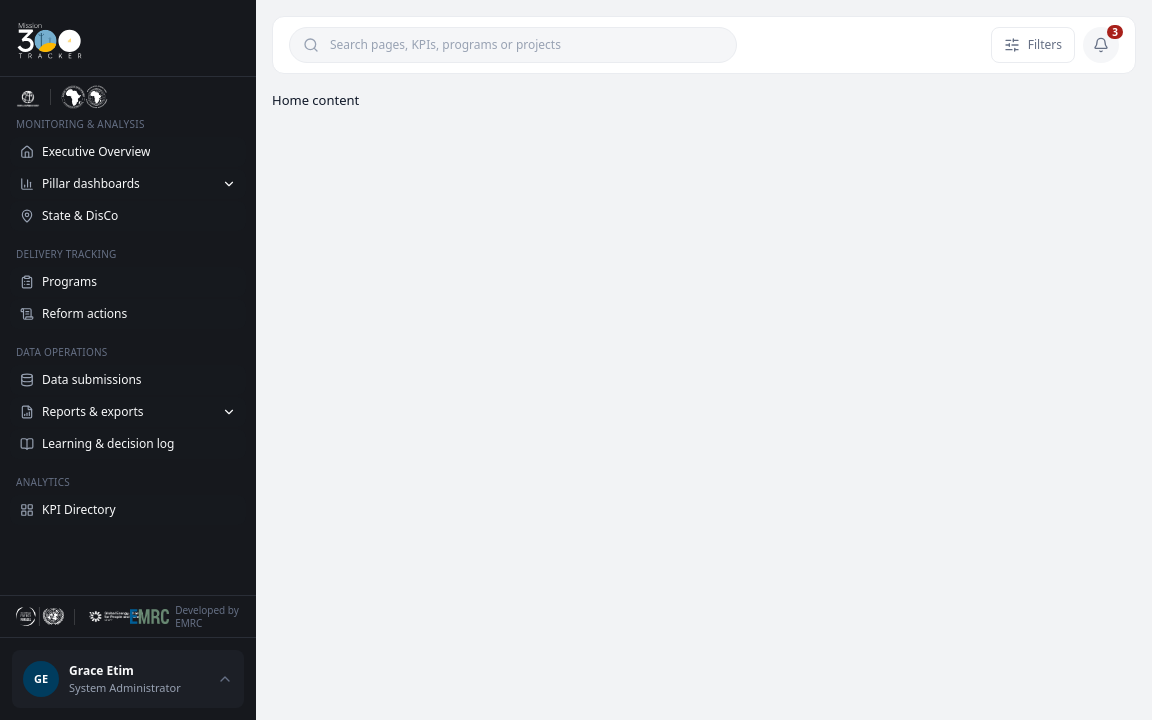
Scenario: AppShell › opens and closes the global filter bar from the sticky header
expect the element "Dashboard filters" is not shown: met
Click the button with aria-label "Open filters" at (1033, 45), box top-left (991, 27), bottom-right (1075, 63)
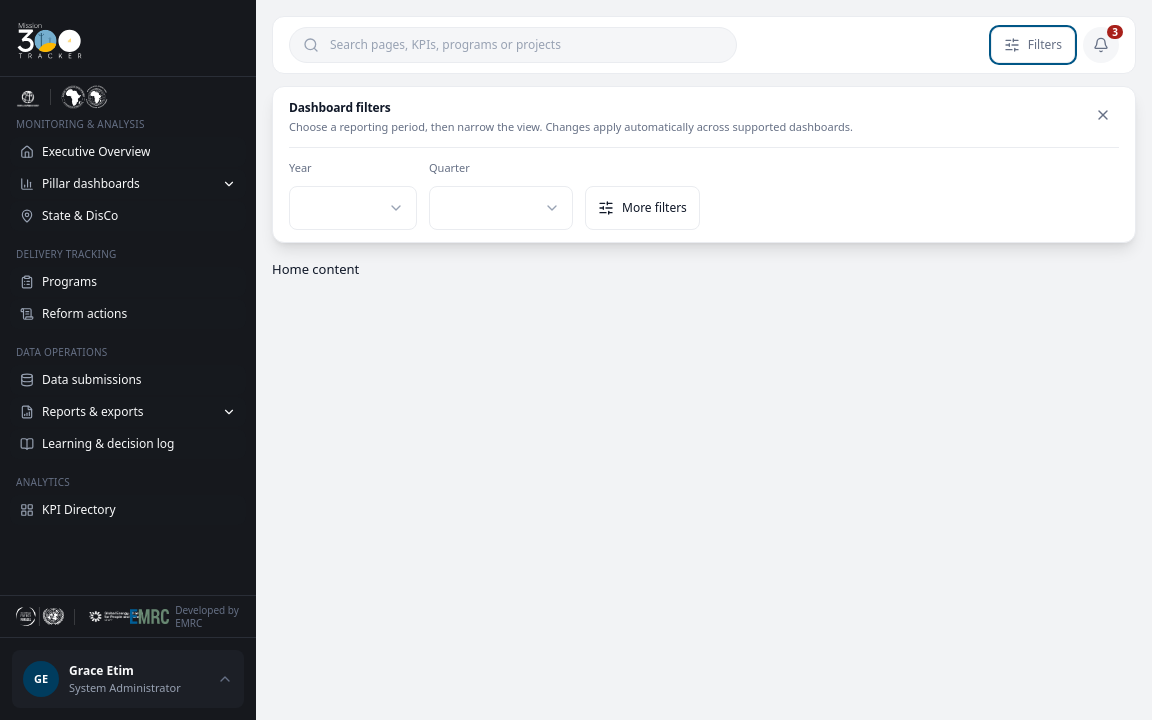
expect the element "Dashboard filters" is shown: met, box top-left (272, 86), bottom-right (1136, 243)
Click the button named "Close filter panel" at (1103, 115), box top-left (1087, 99), bottom-right (1119, 131)
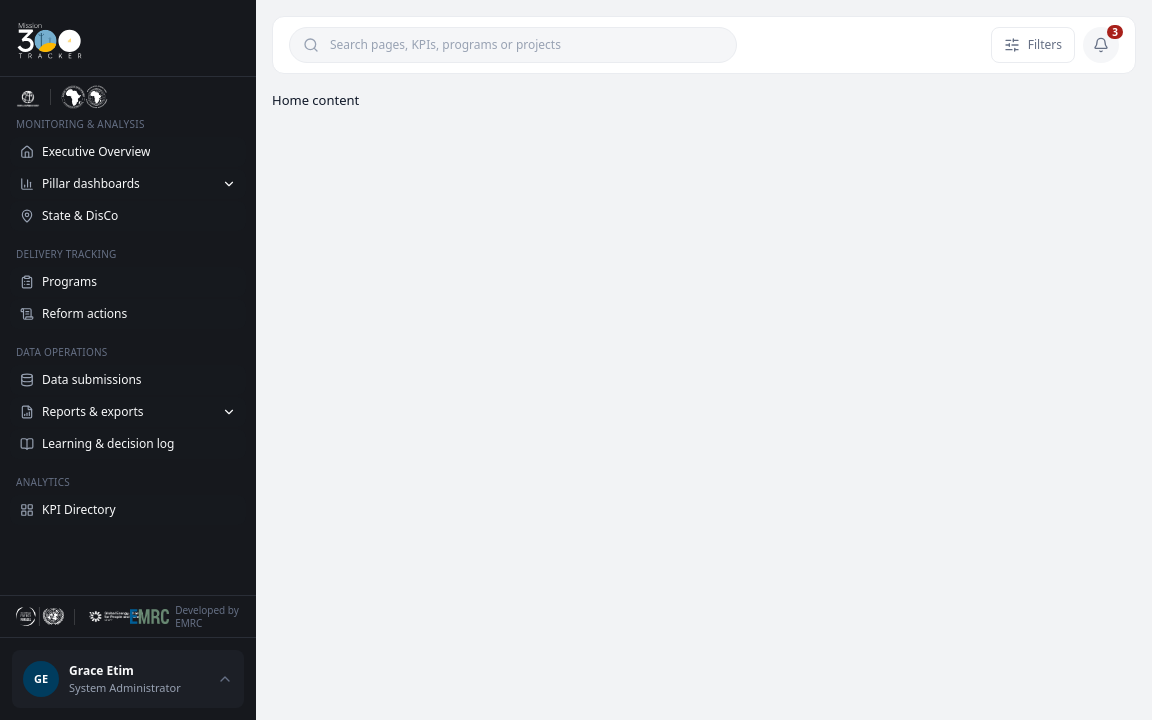
expect the heading "Dashboard filters" is gone: met
